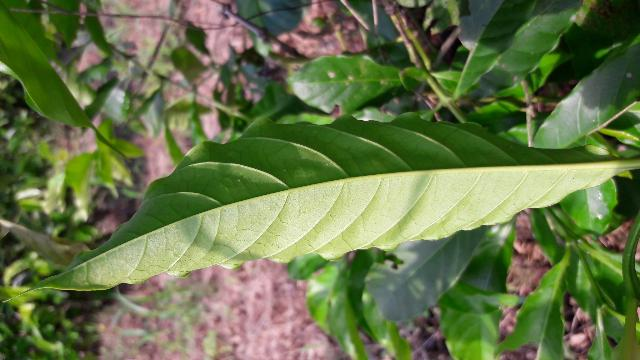healthy: (19, 115, 615, 295)
